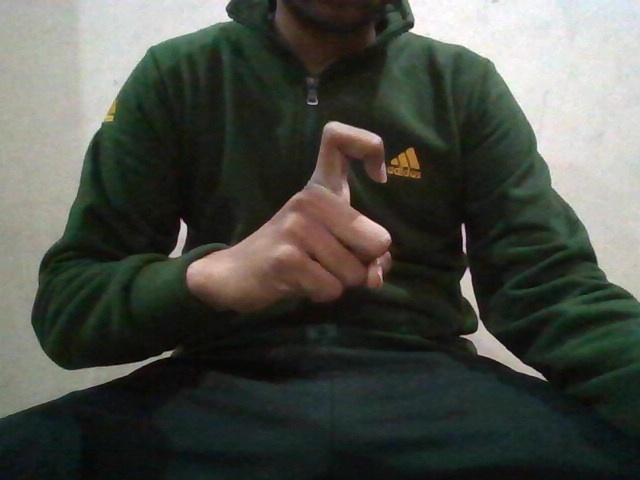P: (264, 118, 397, 319)
